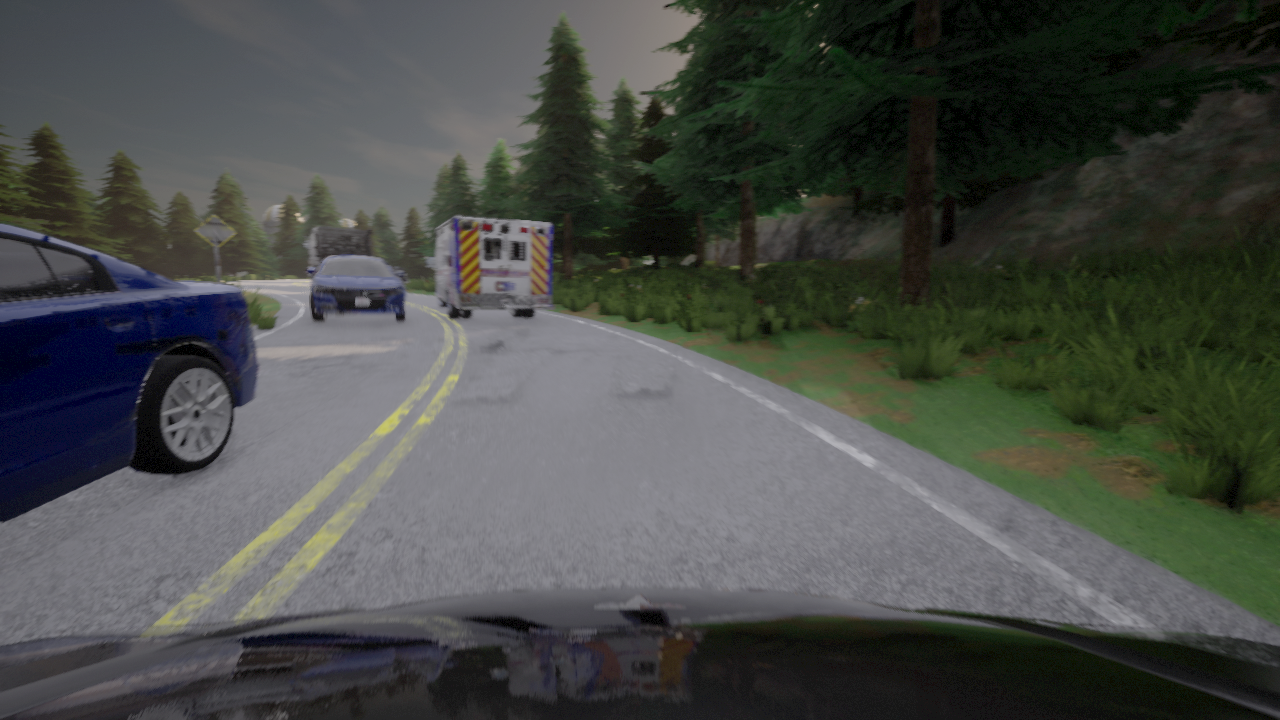cyclist: (0, 588, 1279, 719), (427, 215, 553, 318), (306, 255, 405, 321), (304, 226, 407, 284)
